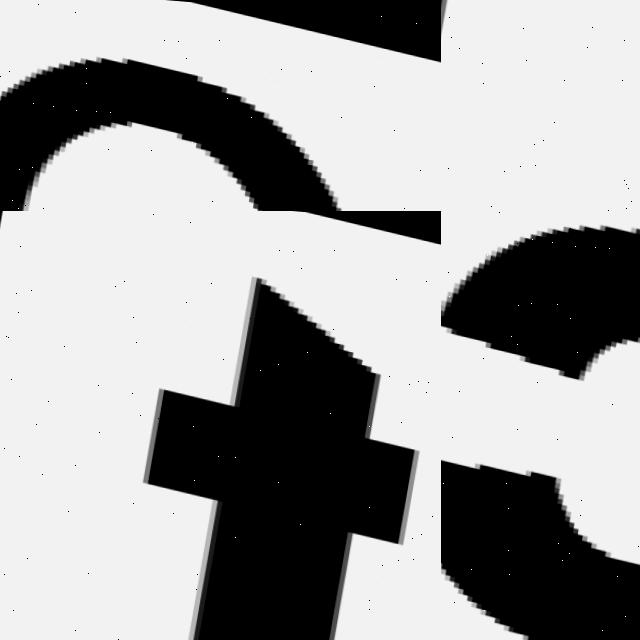C: (441, 459, 640, 640), (441, 223, 640, 376)
O: (0, 52, 349, 211)
T: (82, 237, 441, 640)
